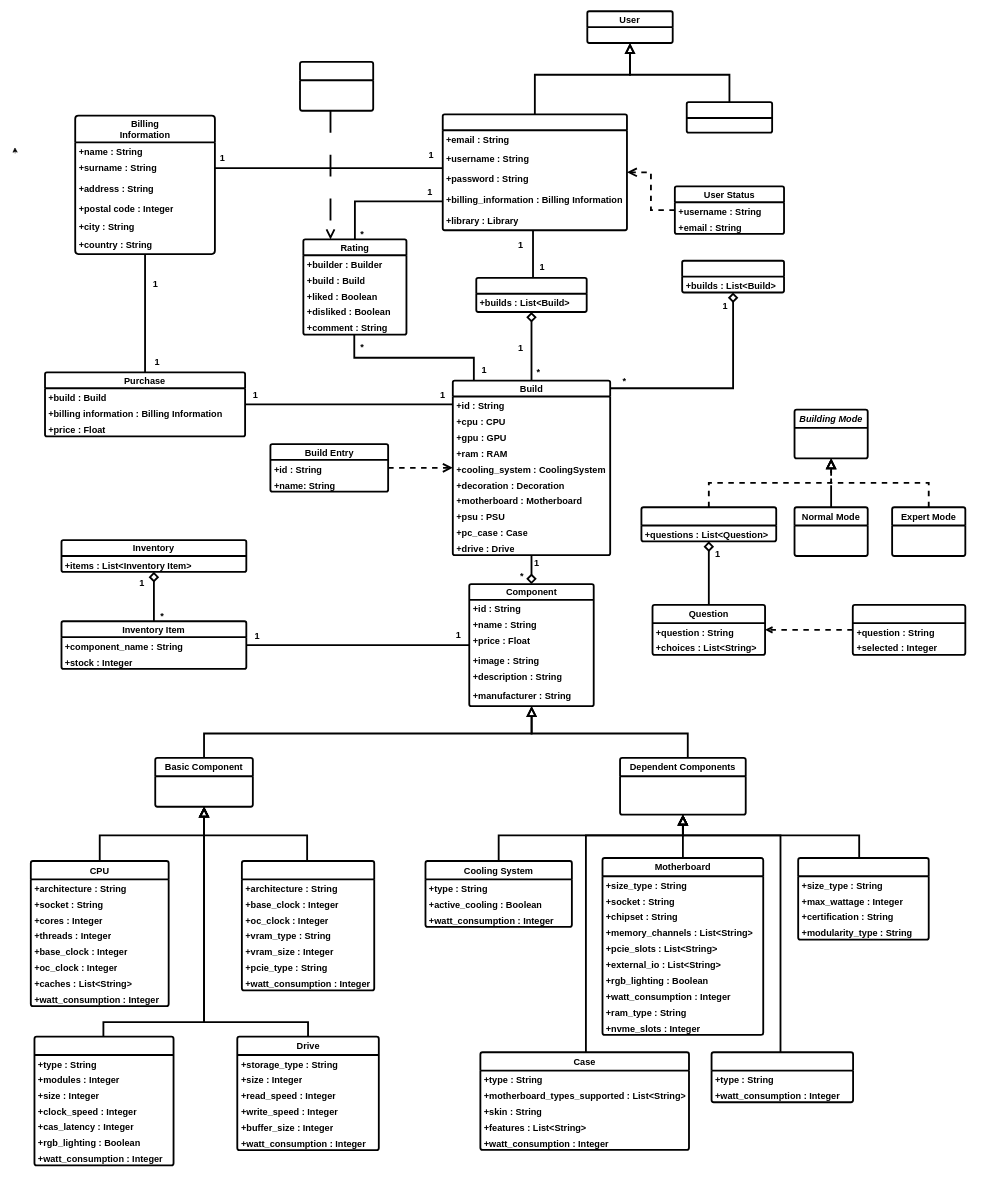
This 997x1178 diagram has some shape labels left out. The box of each missing label's shape, as (x1, y1, x2, y2) in pixels:
Answered Question: (852, 604, 966, 655)
Beginner Mode: (640, 506, 777, 542)
Builder: (442, 113, 628, 231)
Decoration: (710, 1051, 854, 1103)
GPU: (241, 860, 375, 991)
Guest: (686, 101, 773, 133)
Library: (475, 277, 587, 313)
PSU: (797, 857, 929, 940)
RAM: (33, 1035, 174, 1166)
Spell Checker: (299, 61, 374, 111)
Wall of Builds: (681, 260, 785, 293)
